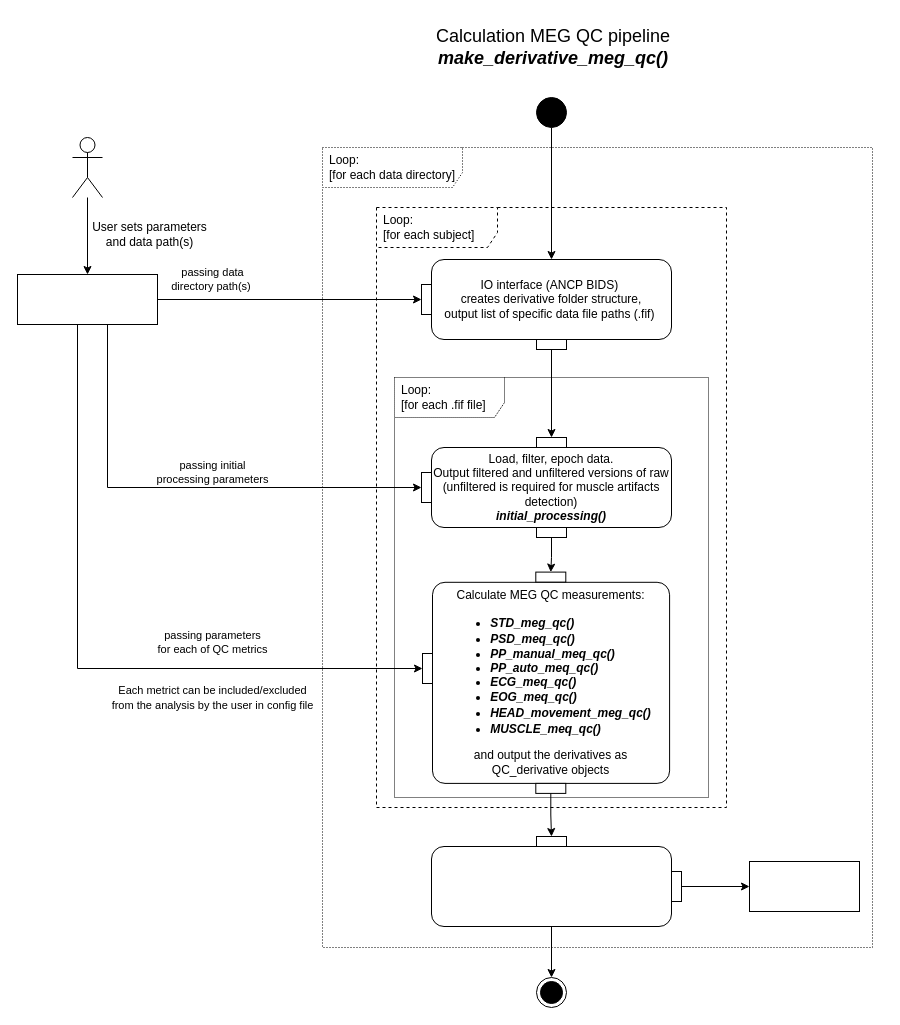
Image size: 900x1025. Some labels were removed from this diagram. Each missing label, with the centre of its shape:
Config file: data directory path(s), QC parameters: the point at 87,299
Derivatives: TSV files, JSON: the point at 804,886
IO interface (ANCP BIDS) writes derivatives back into data system: the point at 551,886
